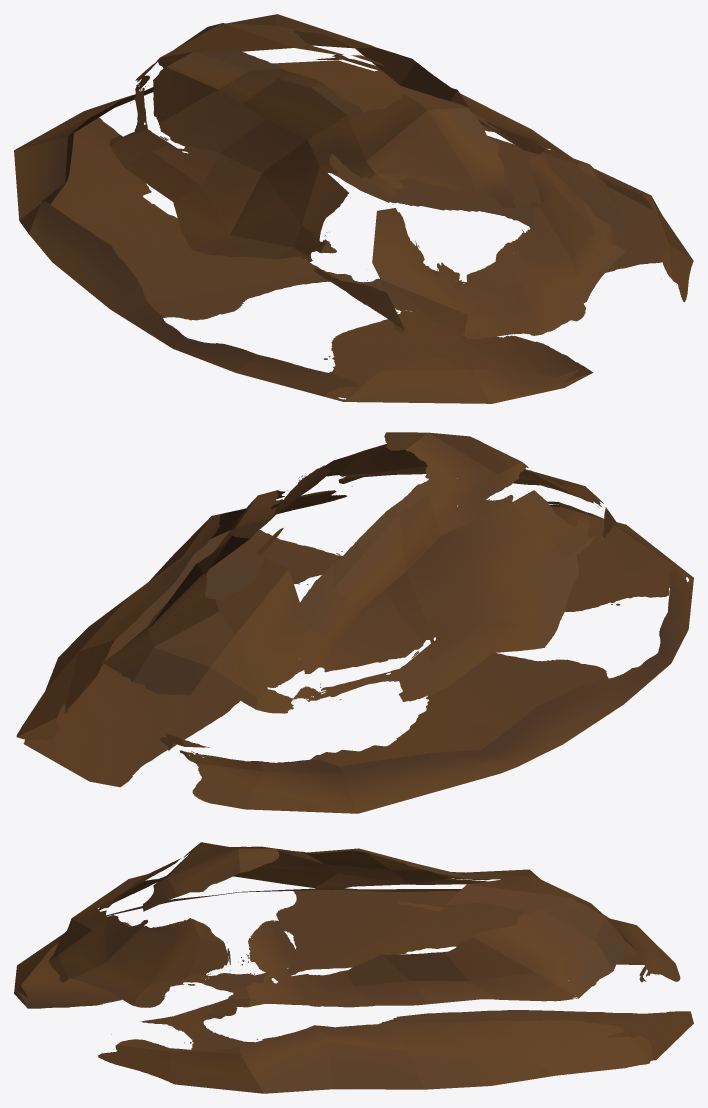
The model's file is Collin_dirtPile_03.fbx.
3 renders of one model, top to bottom at view 1: azimuth 30°, elevation 25°; view 2: azimuth 150°, elevation 25°; view 3: azimuth 270°, elevation 25°, orthographic. The views are drawn at different scales.
Parts seen in each view (by area): view 1: Pileofdirt.003; view 2: Pileofdirt.003; view 3: Pileofdirt.003.
Part boxes in pixels (box(x1,y1,x2,y2)): Pileofdirt.003: box(14, 14, 693, 403); Pileofdirt.003: box(16, 432, 693, 813); Pileofdirt.003: box(14, 842, 693, 1093).
Bounding box in the file's own units: 28.22 × 9.39 × 39.74.
Materials: 1 (1 with a texture image).
